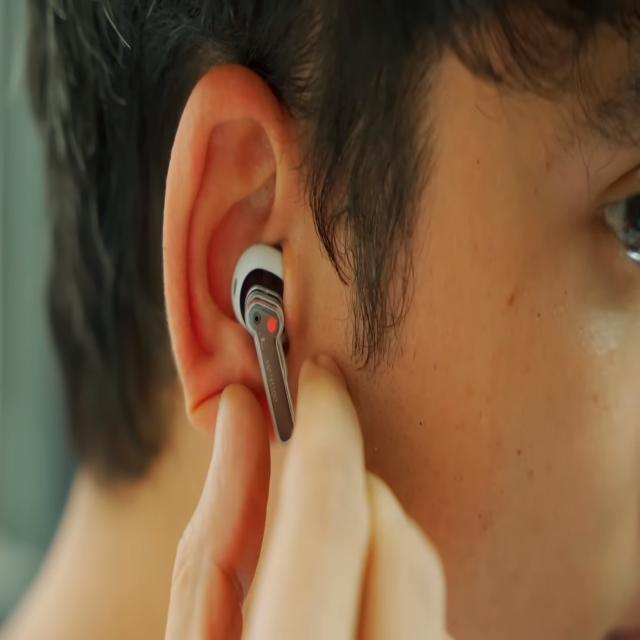airpods: (228, 238, 296, 447)
